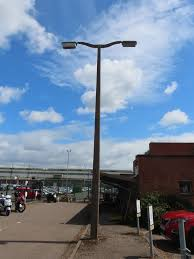light_pole: (85, 37, 107, 250)
